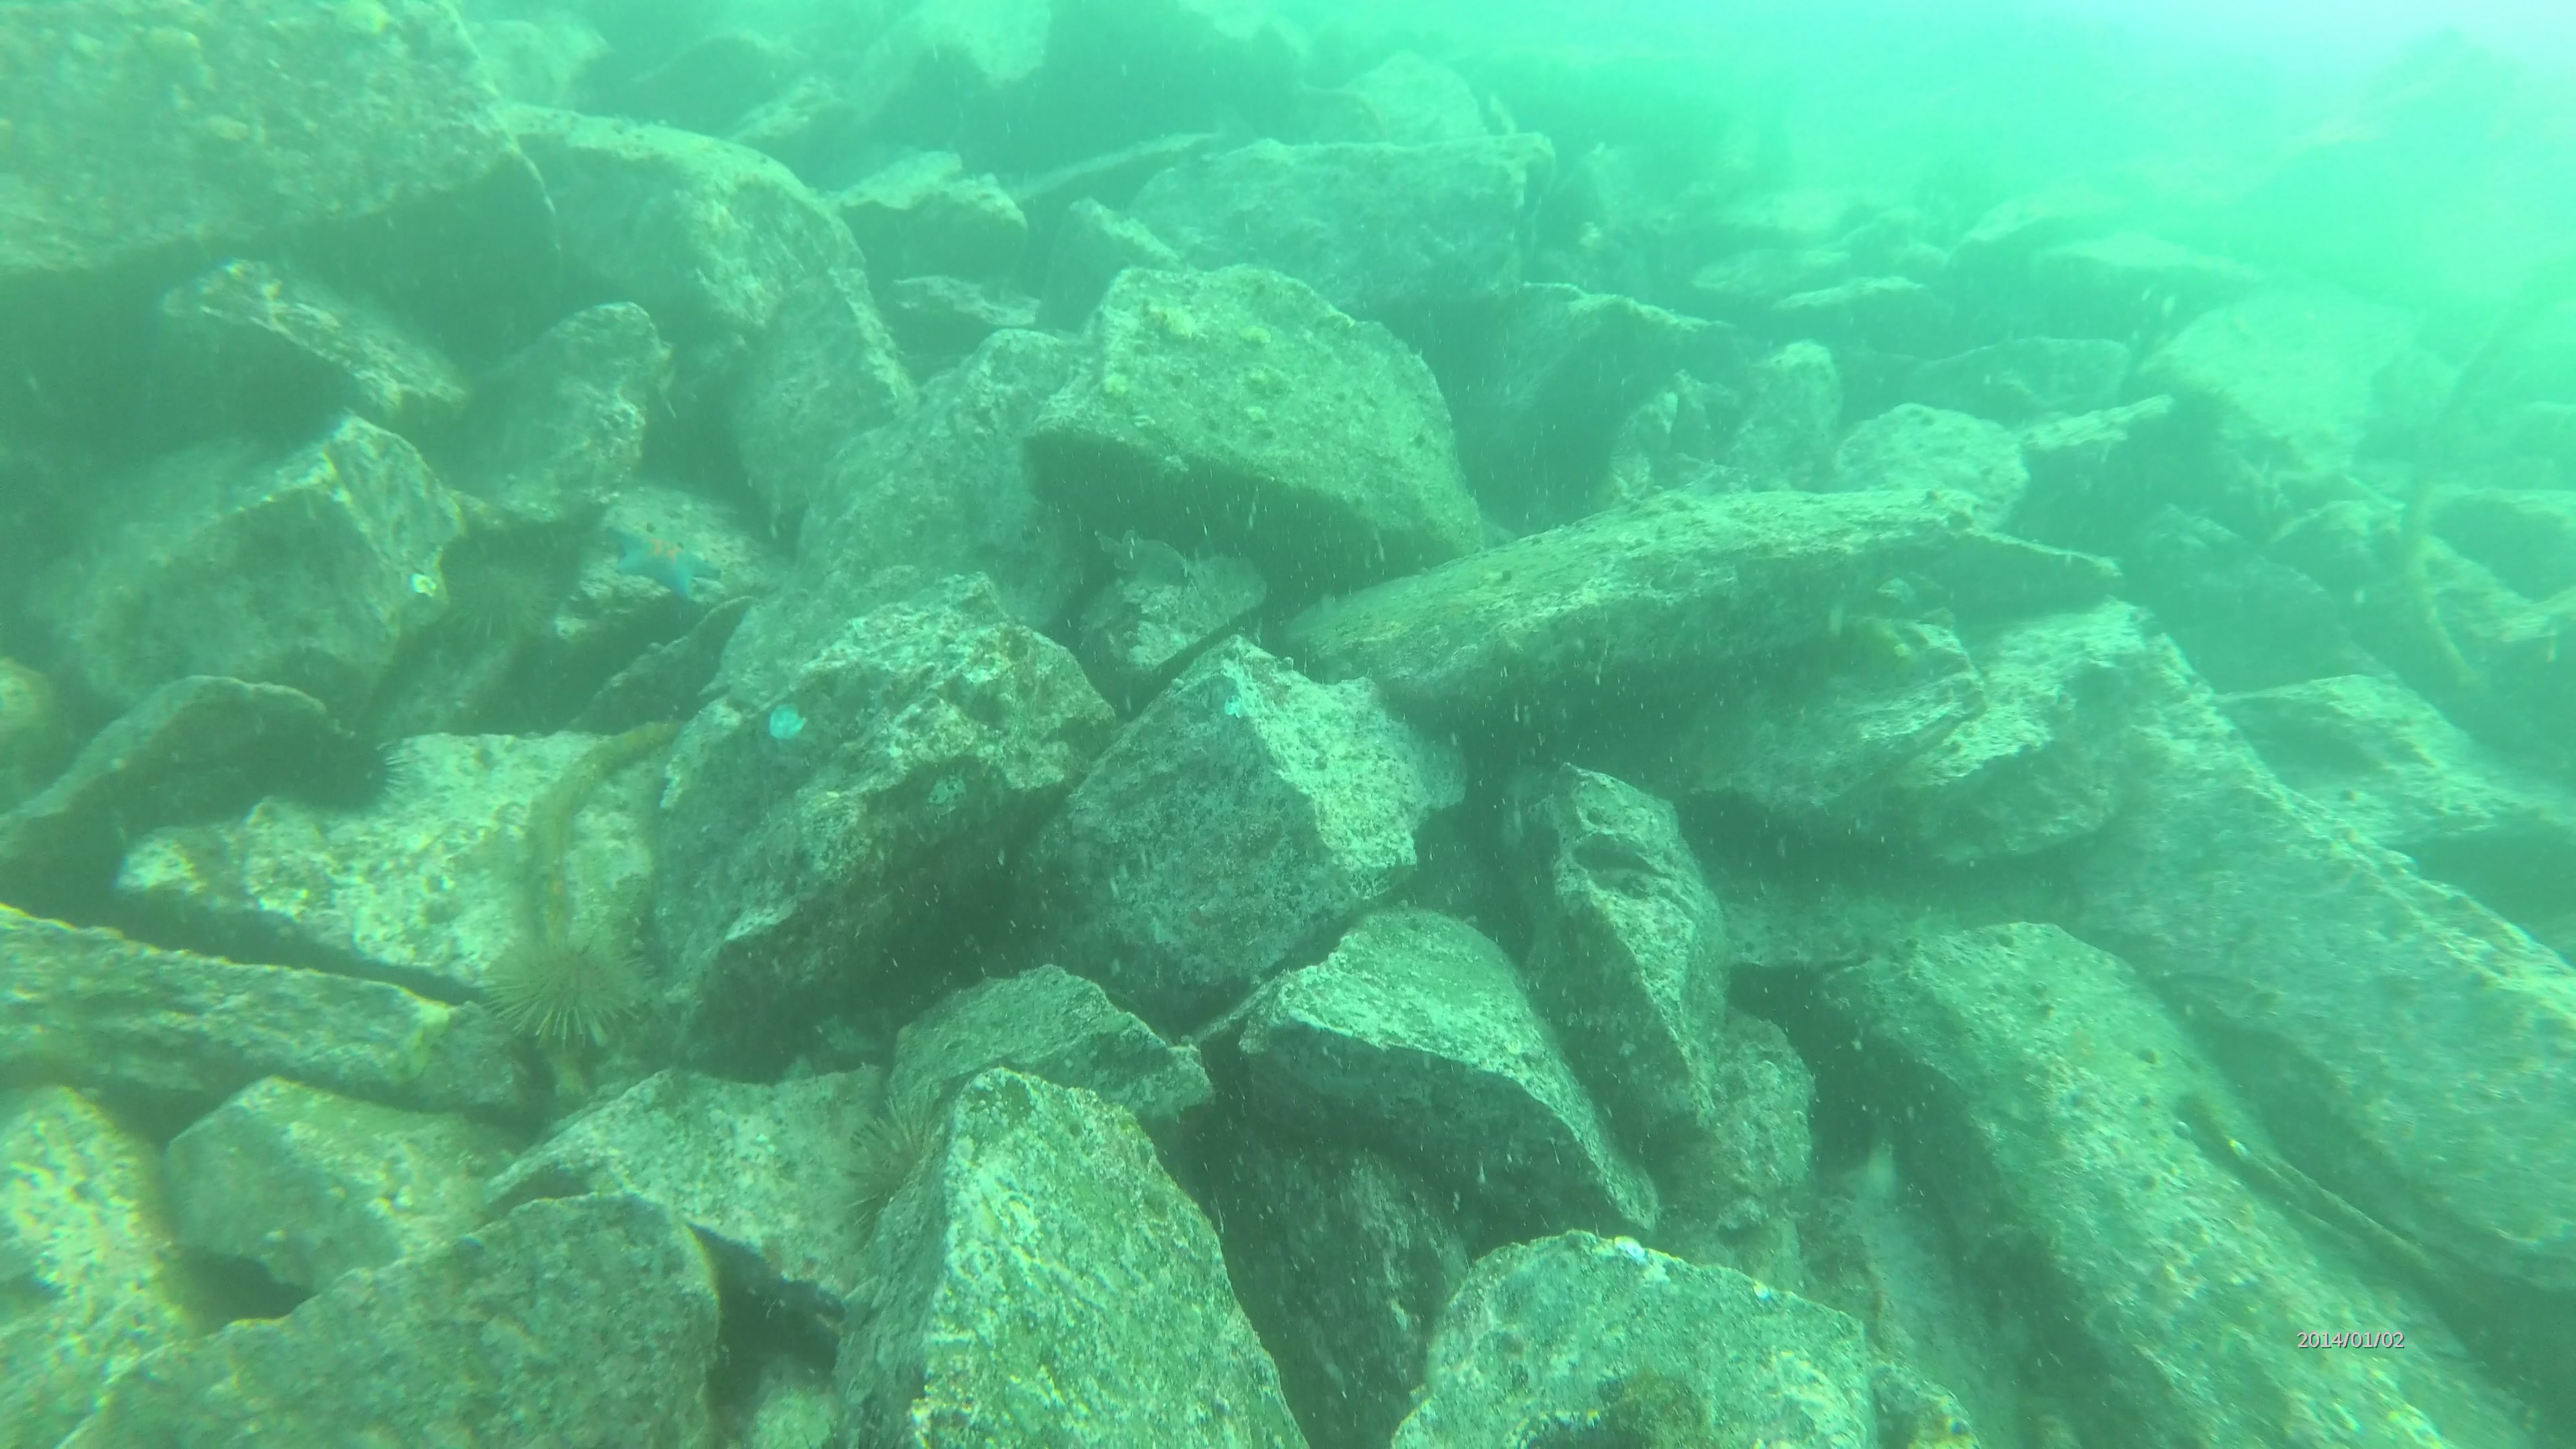echinus: (481, 945, 655, 1058), (837, 1120, 945, 1226)
starfish: (602, 513, 718, 600)
